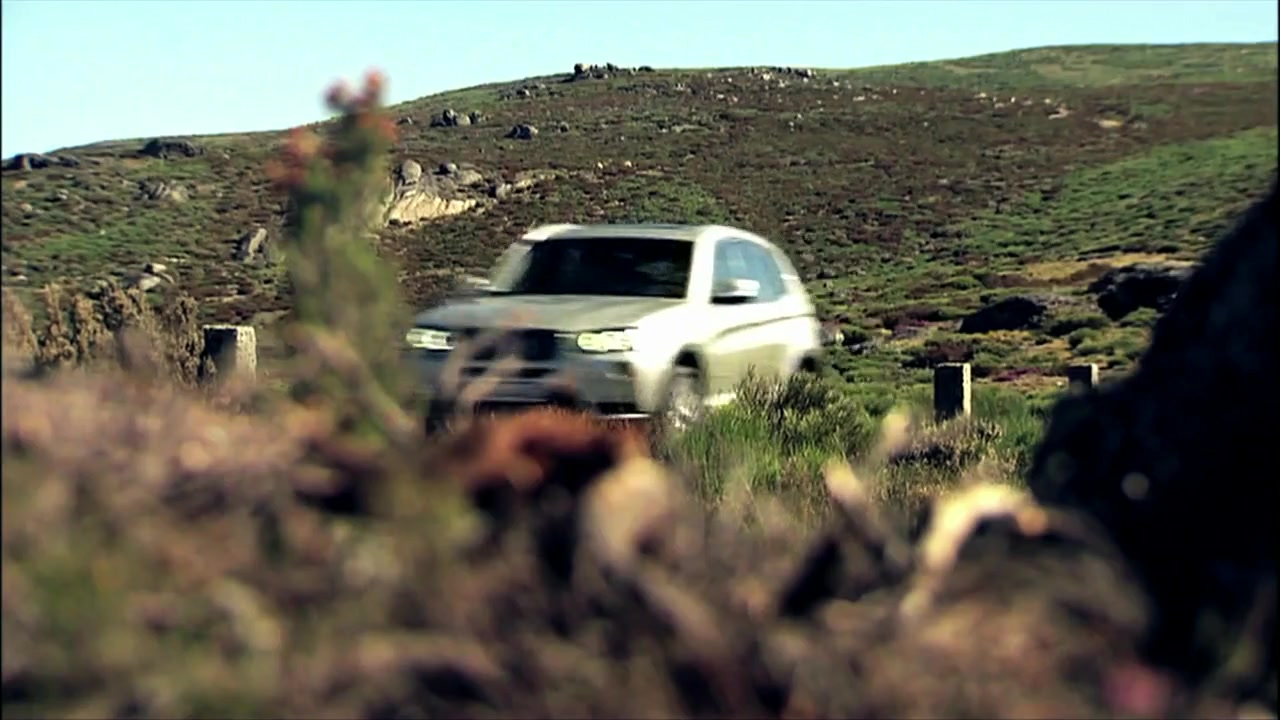car: (391, 219, 829, 433)
